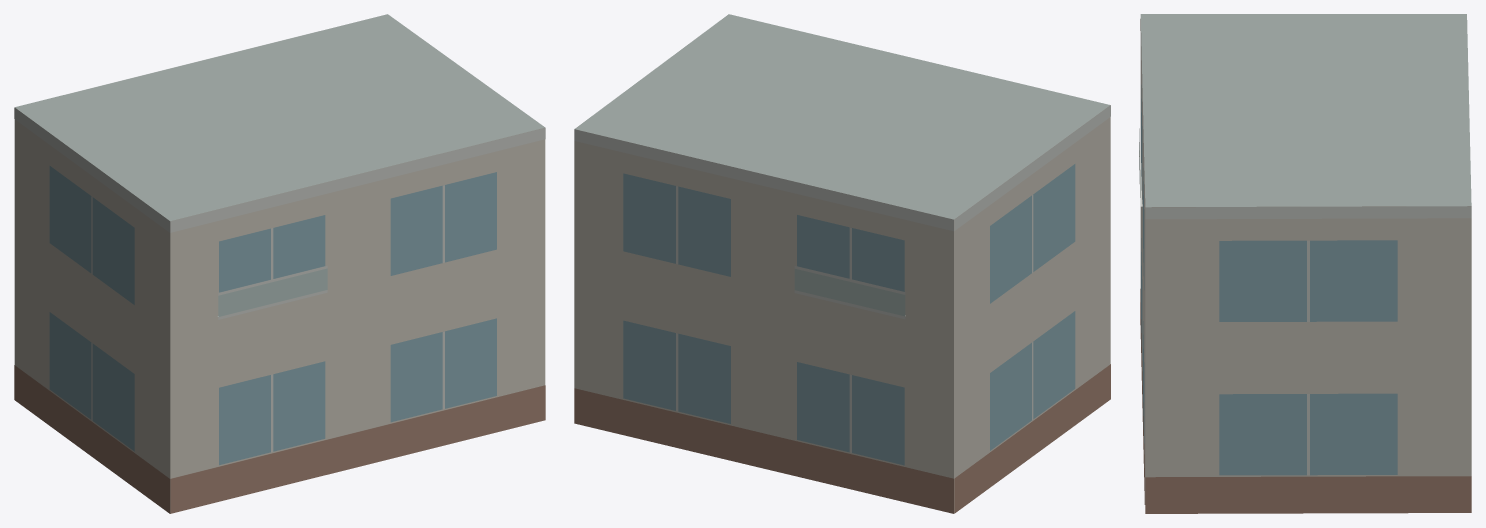
The model's file is survey-upis-32465968.glb.
3 views of the same model, side by side, from view 1: azimuth 30°, elevation 25°; view 2: azimuth 150°, elevation 25°; view 3: azimuth 270°, elevation 25° (orthographic). The views are drawn at different scales.
Parts seen in each view (by area): view 1: survey-upis-32465968.tmp; view 2: survey-upis-32465968.tmp; view 3: survey-upis-32465968.tmp.
Boxes of the visible parts, x1,y1,x2,y2 form: survey-upis-32465968.tmp: [14, 14, 545, 513]; survey-upis-32465968.tmp: [574, 14, 1110, 513]; survey-upis-32465968.tmp: [1139, 14, 1471, 513].
Size of the model in its own units: 8.25 by 6.1 by 6.
